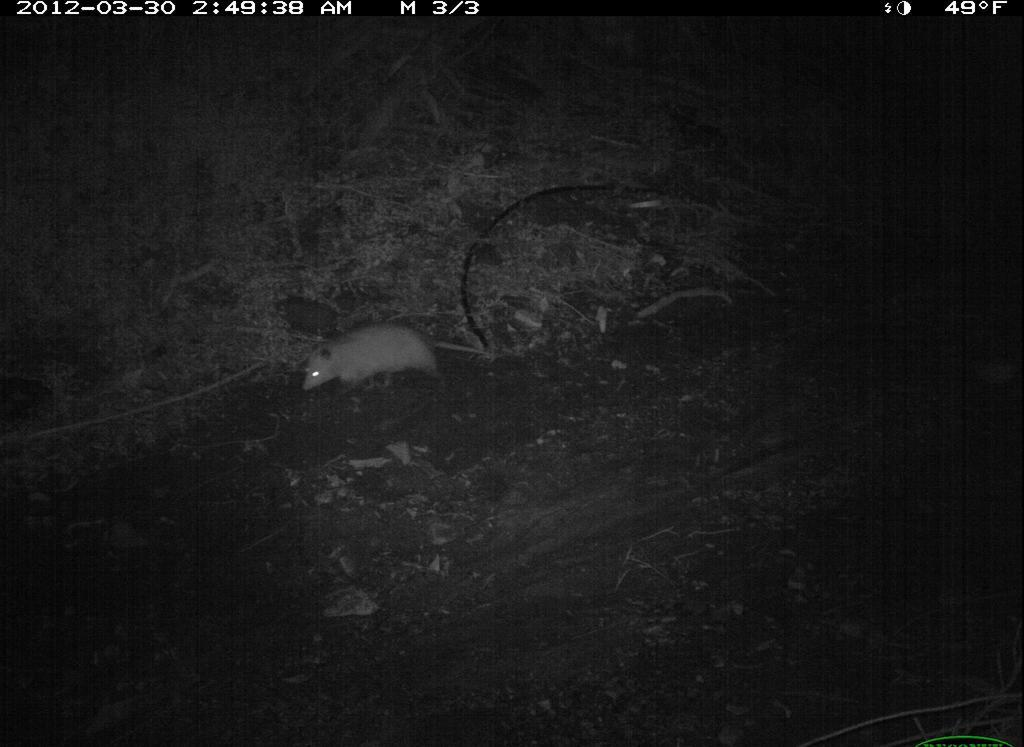opossum: (296, 314, 516, 409)
